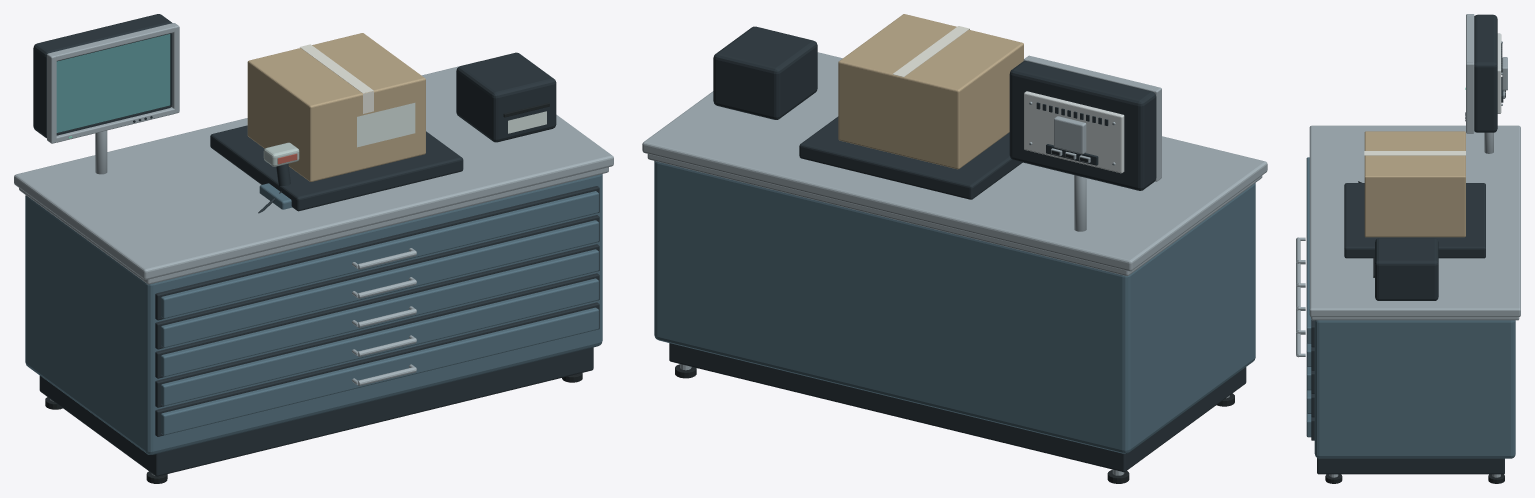
File: OD_ReceivingInspection.fbx
3 views of the same model, side by side, from view 1: azimuth 30°, elevation 25°; view 2: azimuth 150°, elevation 25°; view 3: azimuth 270°, elevation 25° (orthographic). The views are drawn at different scales.
Visible parts, largest first — view 1: OD_ReceivingInspection; view 2: OD_ReceivingInspection; view 3: OD_ReceivingInspection.
Part boxes in pixels (box(x1,y1,x2,y2)): OD_ReceivingInspection: box(14, 14, 613, 483); OD_ReceivingInspection: box(642, 14, 1267, 483); OD_ReceivingInspection: box(1296, 14, 1520, 483).
Size of the model in its own units: 206 by 154 by 106.
